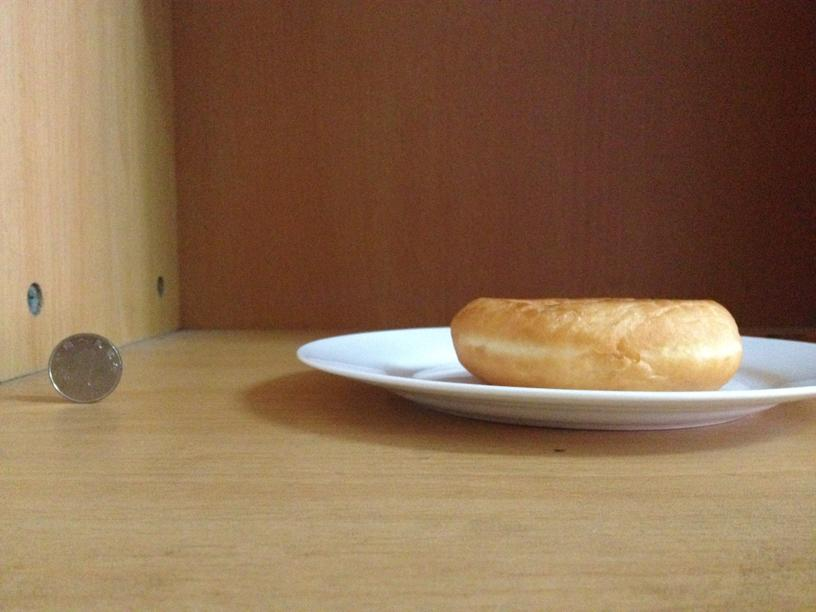coin: (50, 336, 120, 404)
doughnut: (446, 292, 741, 390)
